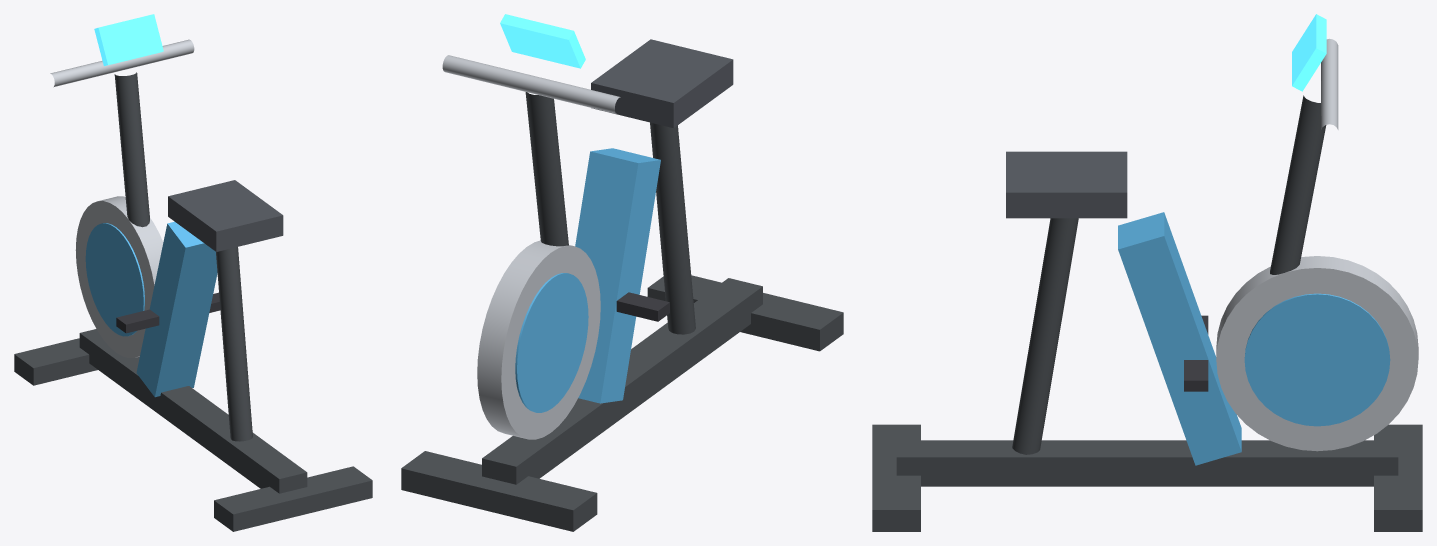
The model's file is exercise-bike.glb.
3 views of the same model, side by side, from view 1: azimuth 30°, elevation 25°; view 2: azimuth 150°, elevation 25°; view 3: azimuth 270°, elevation 25° (orthographic). The views are drawn at different scales.
Size of the model in its own units: 0.5 by 1.25 by 1.36.
